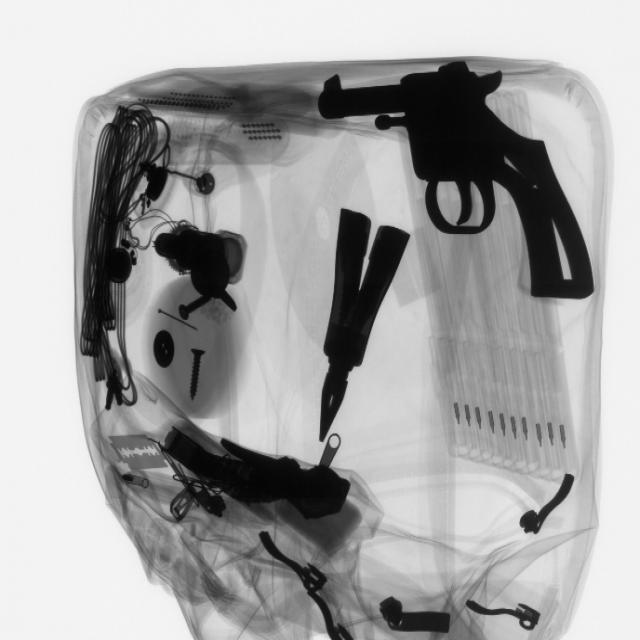BLADE: (110, 430, 176, 480)
GUN: (319, 69, 601, 305)
SCREW: (178, 343, 219, 412)
